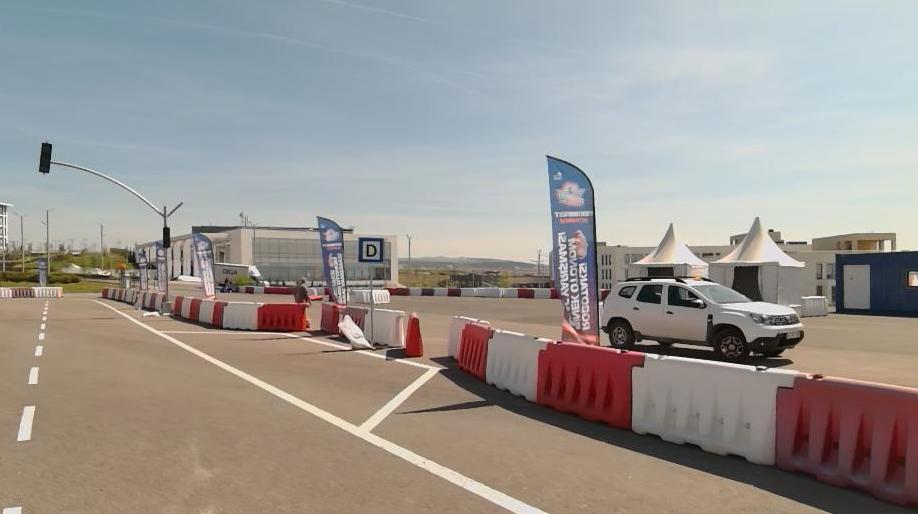nesne: (2, 297, 547, 512), (130, 317, 547, 514), (153, 329, 440, 437), (160, 329, 441, 438), (773, 372, 916, 509), (632, 354, 793, 470), (600, 275, 804, 362), (0, 297, 50, 512), (537, 342, 642, 426), (50, 160, 163, 219), (484, 328, 545, 401), (458, 321, 492, 379), (446, 314, 491, 357), (101, 285, 163, 310), (256, 302, 308, 330), (337, 315, 371, 349), (374, 307, 403, 346), (223, 302, 265, 327), (405, 313, 424, 354), (161, 249, 172, 317), (358, 236, 382, 263), (16, 404, 34, 439), (461, 288, 518, 299), (343, 306, 368, 330), (320, 302, 337, 332), (38, 142, 53, 173), (166, 201, 183, 226), (211, 300, 227, 326), (199, 299, 214, 323), (349, 287, 369, 304), (188, 297, 201, 322), (10, 286, 35, 299), (35, 286, 61, 298), (180, 296, 192, 320), (373, 288, 390, 303), (534, 287, 551, 299), (28, 365, 39, 383), (163, 224, 171, 247), (518, 289, 534, 299), (1, 505, 20, 513), (432, 287, 448, 296), (447, 287, 461, 297), (421, 288, 434, 297), (0, 286, 10, 297), (34, 344, 42, 355), (161, 204, 165, 224), (38, 332, 44, 339)
